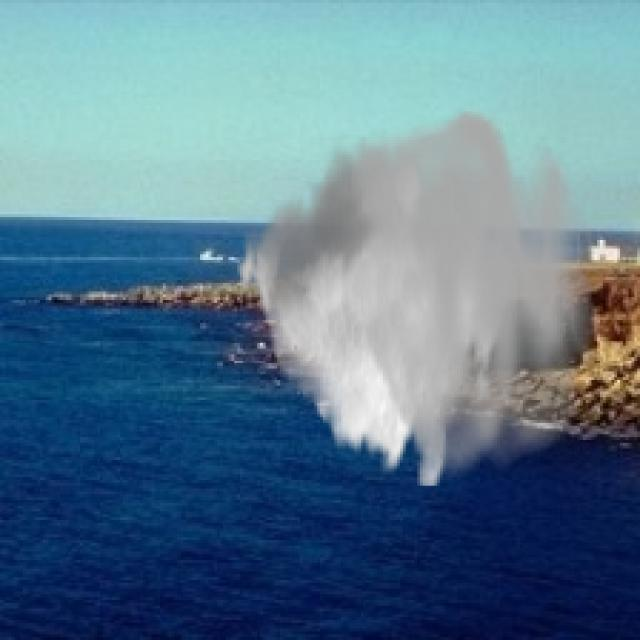Smoke: (234, 103, 597, 486)
